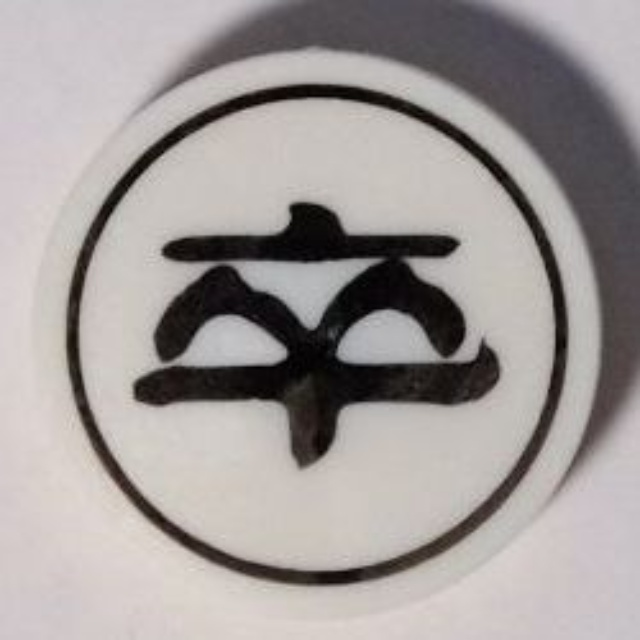black_chot: (26, 41, 615, 619)
